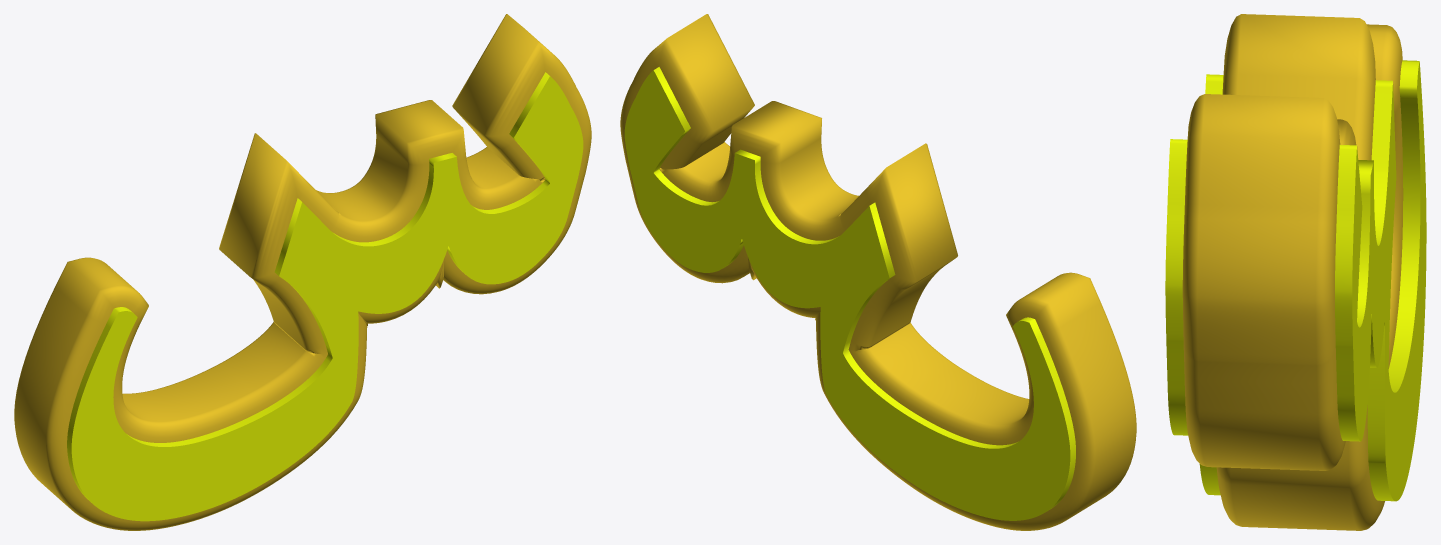
The picture shows the model from 3 angles, left to right: view 1: azimuth 30°, elevation 25°; view 2: azimuth 150°, elevation 25°; view 3: azimuth 270°, elevation 25°; orthographic projection. The views are drawn at different scales.
Visible parts, largest first — view 1: text 2, Text; view 2: text 2, Text; view 3: text 2, Text.
Boxes of the visible parts, x1,y1,x2,y2 form: text 2: [14, 14, 591, 530]; Text: [67, 72, 583, 521]; text 2: [620, 14, 1136, 530]; Text: [624, 67, 1075, 520]; text 2: [1182, 14, 1403, 530]; Text: [1165, 60, 1426, 501].
Bounding box in the file's own units: 64.67 × 48.25 × 16.95.
